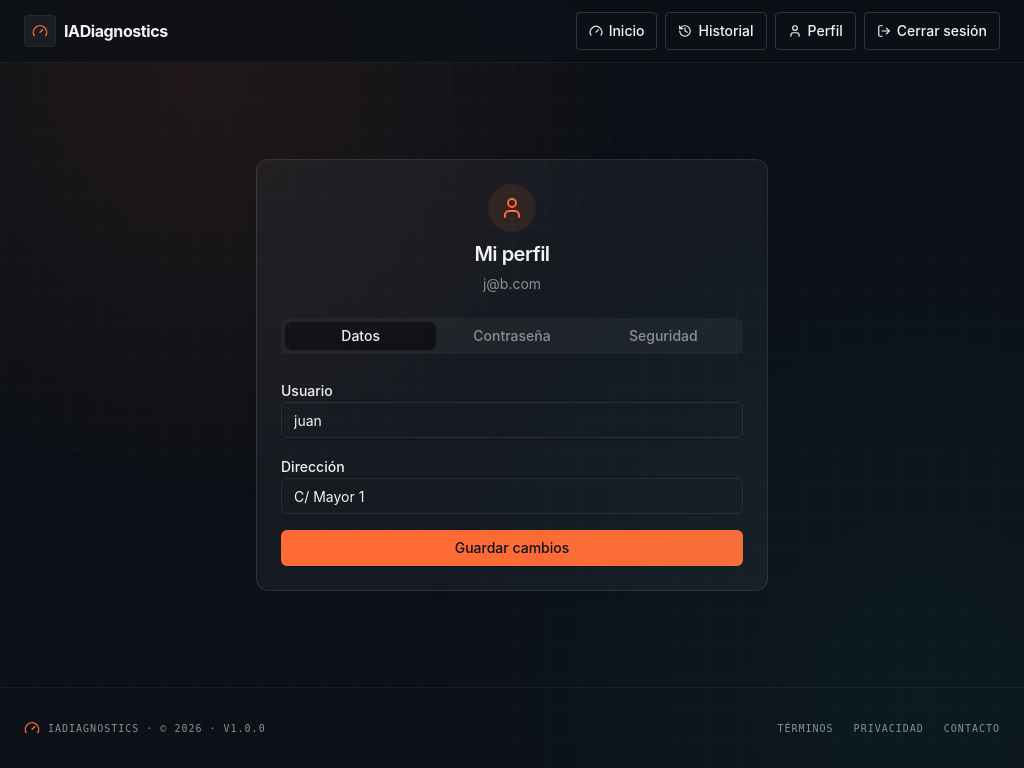
it: ProfilePage › switches to the password tab and validates matching passwords
The width and height of the screenshot is (1024, 768).
Press the mouse on the tab "Contraseña" at (512, 336), box x1=436 y1=322 x2=588 y2=350
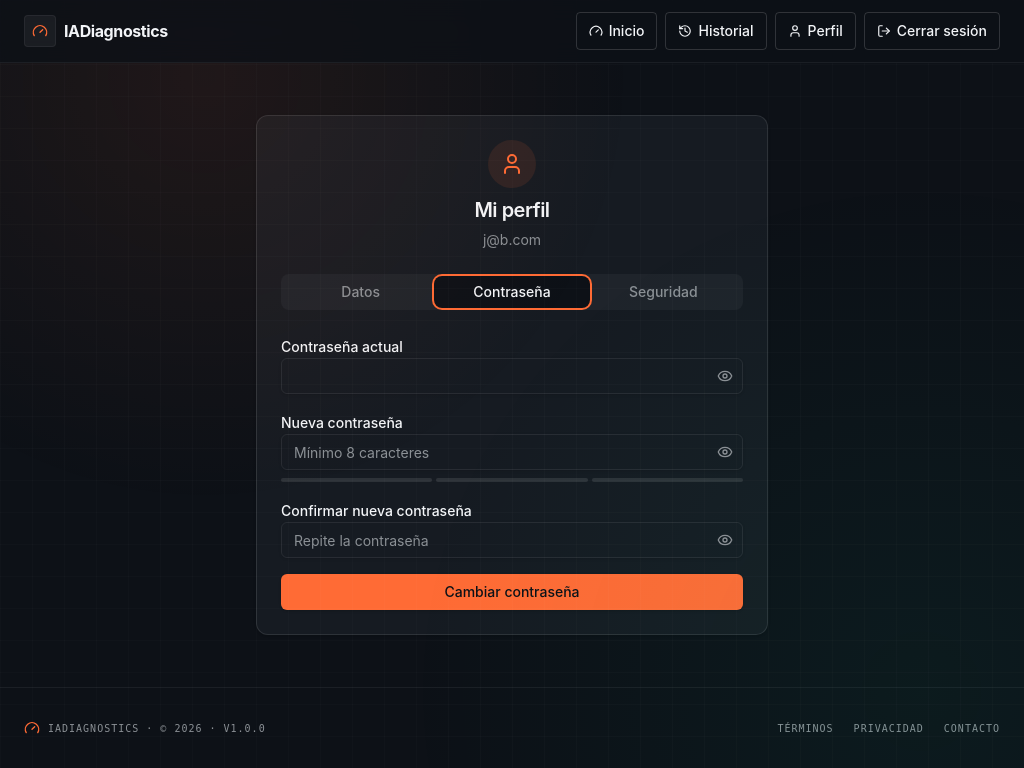
Expected: the password field labelled "Contraseña actual" is shown
Type "OldPass123!" into the password field labelled "Contraseña actual".
click(512, 376); type("OldPass123!")  # box x1=281 y1=358 x2=743 y2=394
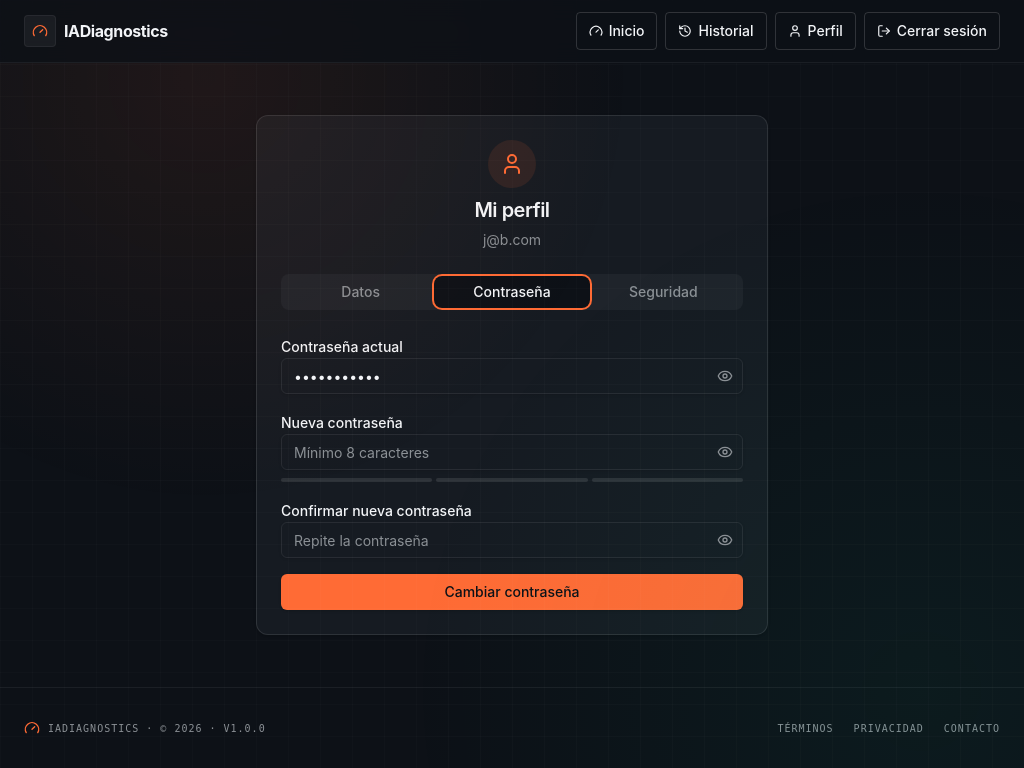
Type "NewPass456!" into the password field labelled "Nueva contraseña".
click(512, 452); type("NewPass456!")  # box x1=281 y1=434 x2=743 y2=470
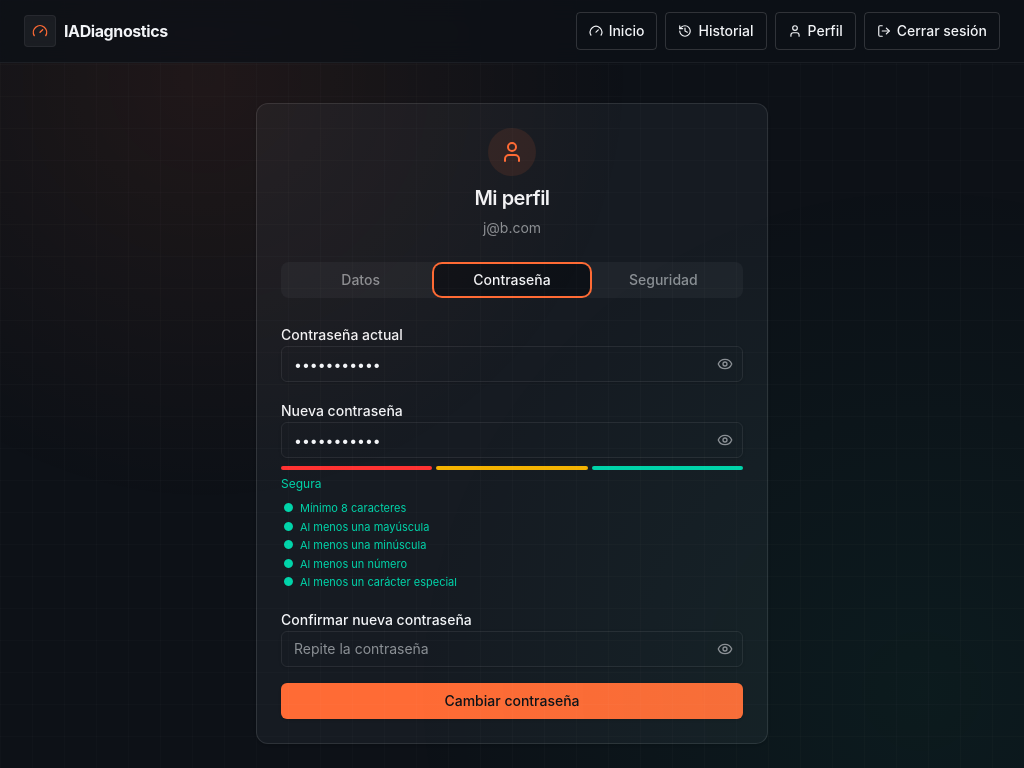
Type "Mismatch789!" into the password field labelled "Confirmar nueva contraseña".
click(512, 648); type("Mismatch789!")  # box x1=281 y1=630 x2=743 y2=666
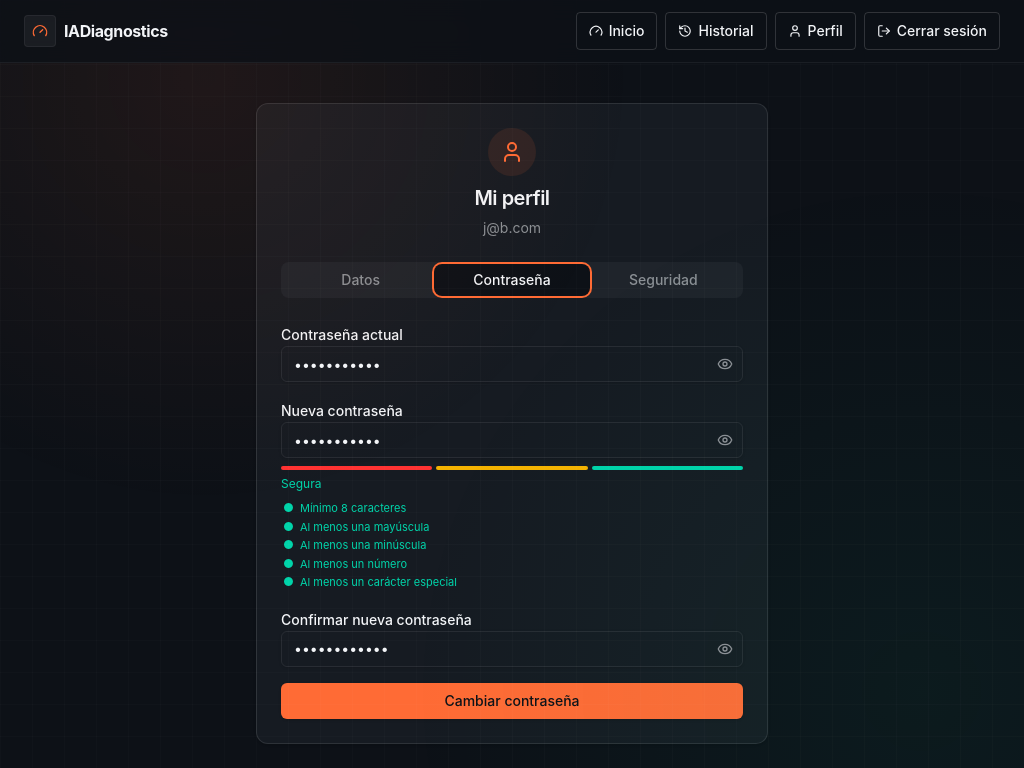
Click the button "Cambiar contraseña".
click(512, 700)  # box x1=281 y1=682 x2=743 y2=718
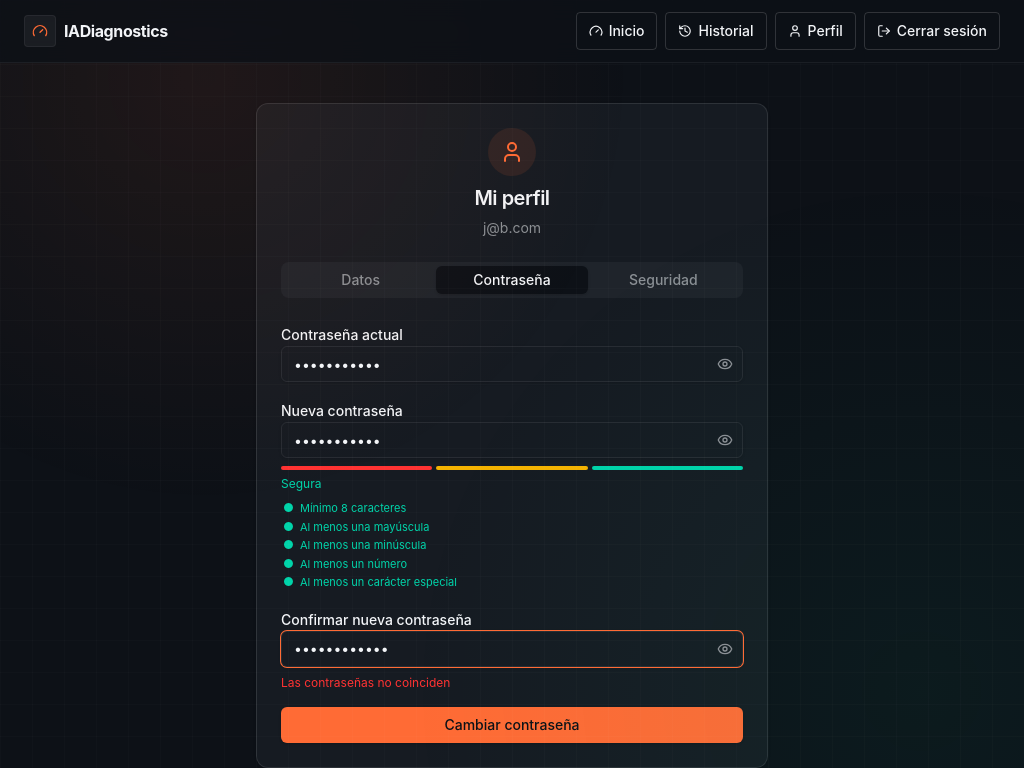
Expected: the text "Las contraseñas no coinciden" is shown, x1=281 y1=674 x2=450 y2=690
